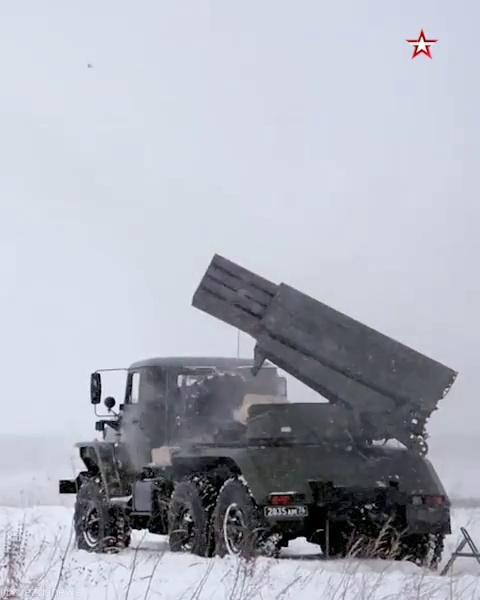MIL_SAM_TEL: (67, 250, 458, 558)
